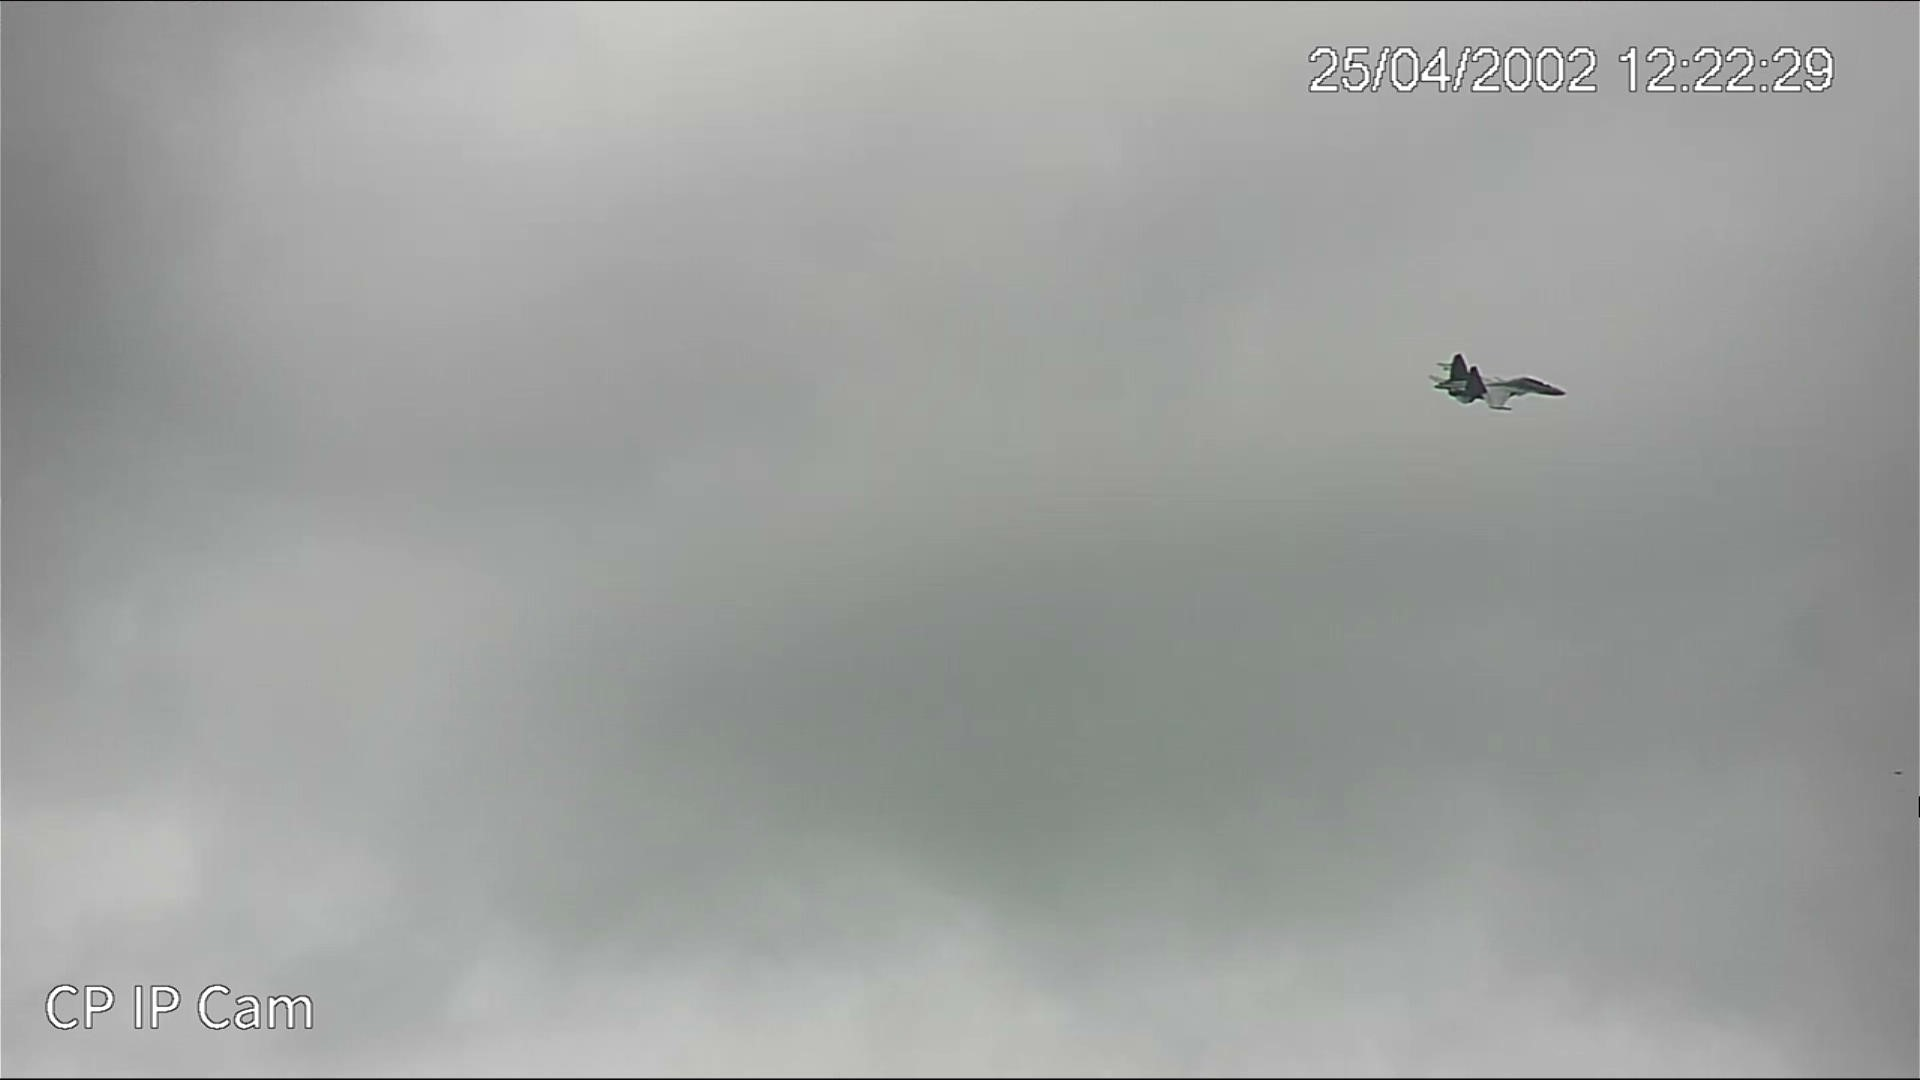SU_30: (1427, 351, 1571, 425)
